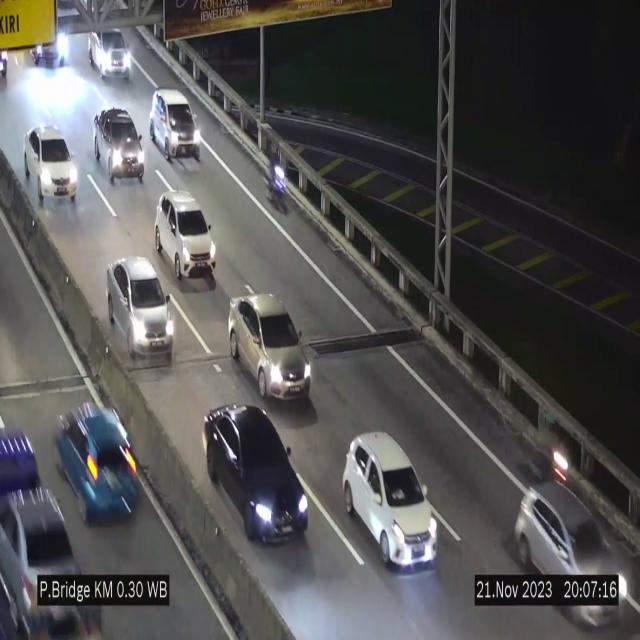Car: (508, 466, 638, 628), (205, 405, 309, 543), (343, 432, 438, 566), (46, 395, 138, 512), (2, 475, 72, 622), (228, 294, 311, 399), (107, 258, 174, 359), (154, 191, 216, 284), (20, 123, 76, 217), (92, 104, 146, 188), (149, 88, 200, 160), (86, 28, 132, 83)
Motorcycle: (534, 409, 569, 490), (265, 146, 289, 218)
Truck: (0, 407, 104, 640)
